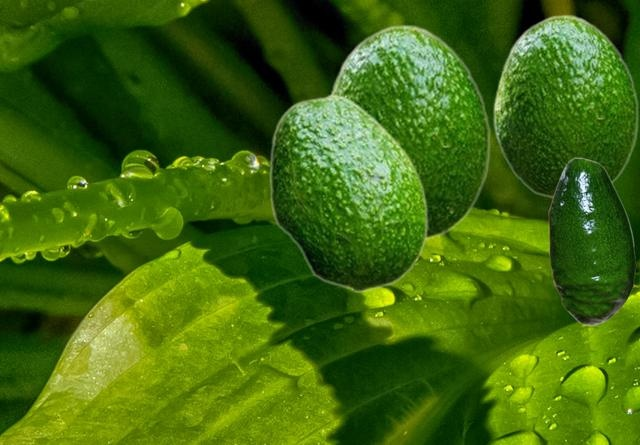avocado: (327, 24, 490, 240), (268, 93, 427, 291), (493, 14, 638, 198), (548, 157, 635, 324)
